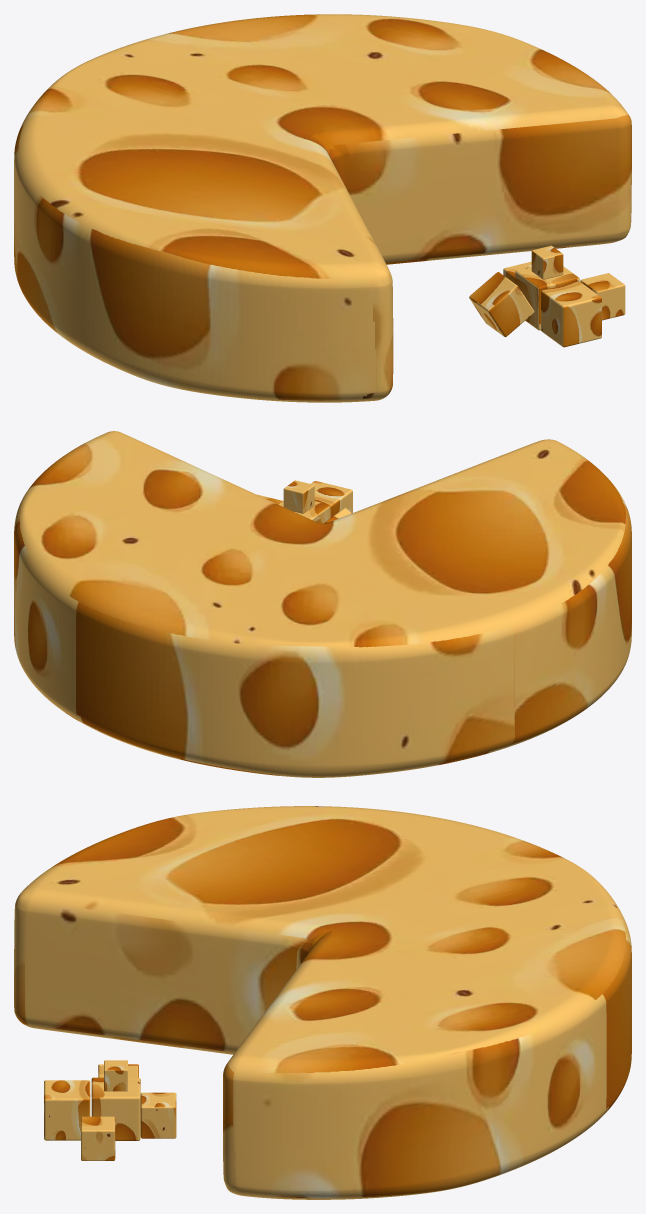
Rendered from Spawn.fbx.
3 views of the same model, one above another, from view 1: azimuth 30°, elevation 25°; view 2: azimuth 150°, elevation 25°; view 3: azimuth 270°, elevation 25° (orthographic). The views are drawn at different scales.
Parts seen in each view (by area): view 1: Cylinder; view 2: Cylinder; view 3: Cylinder.
Part boxes in pixels (<box>): Cylinder: <box>14,14,631,402</box>; Cylinder: <box>14,431,631,777</box>; Cylinder: <box>14,806,631,1199</box>.
Bounding box in the file's own units: 199 × 48.06 × 193.
1 material, 1 textured.
